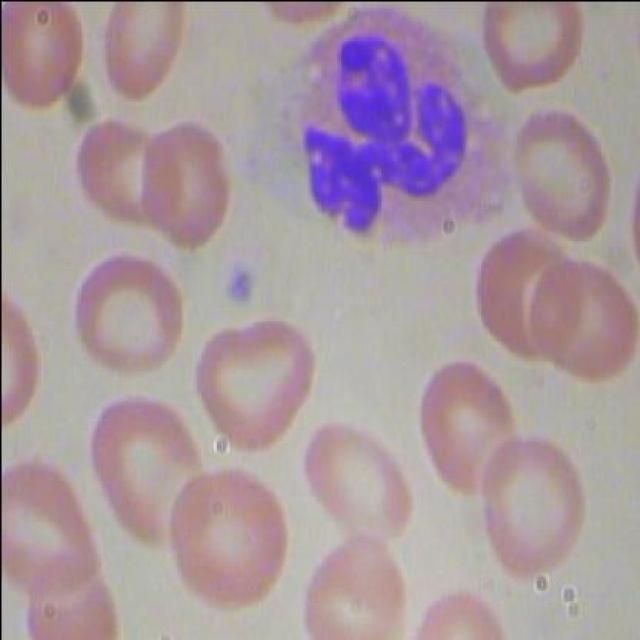RBC: (82, 390, 216, 556), (188, 298, 320, 464), (65, 236, 189, 392), (163, 464, 288, 618), (294, 402, 418, 553), (408, 348, 522, 502), (522, 242, 640, 386), (1, 444, 108, 602), (503, 102, 620, 240), (478, 433, 585, 576), (296, 522, 418, 638), (134, 122, 232, 249), (70, 109, 167, 237), (475, 1, 591, 104), (91, 2, 192, 112), (2, 1, 92, 117)
WBC: (247, 4, 516, 262)
